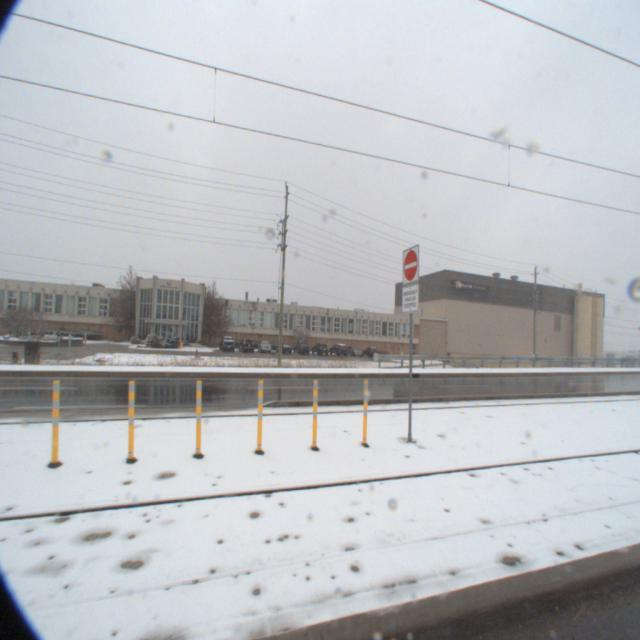Car: (214, 336, 234, 354)
